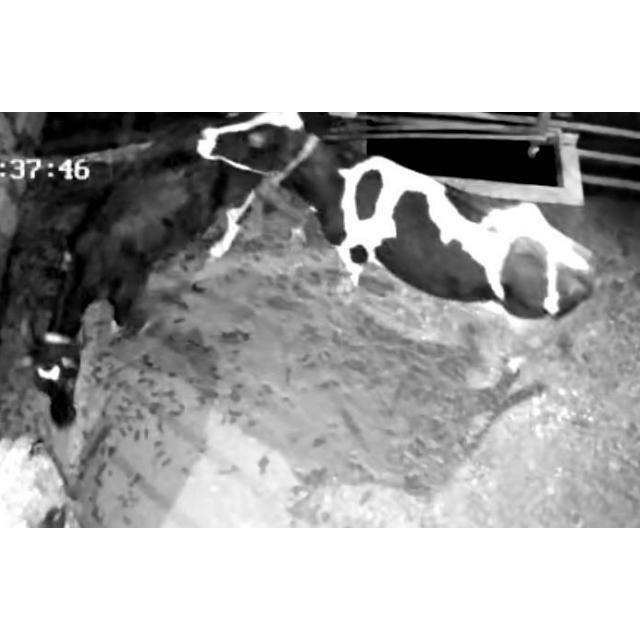propping: (182, 112, 358, 202)
